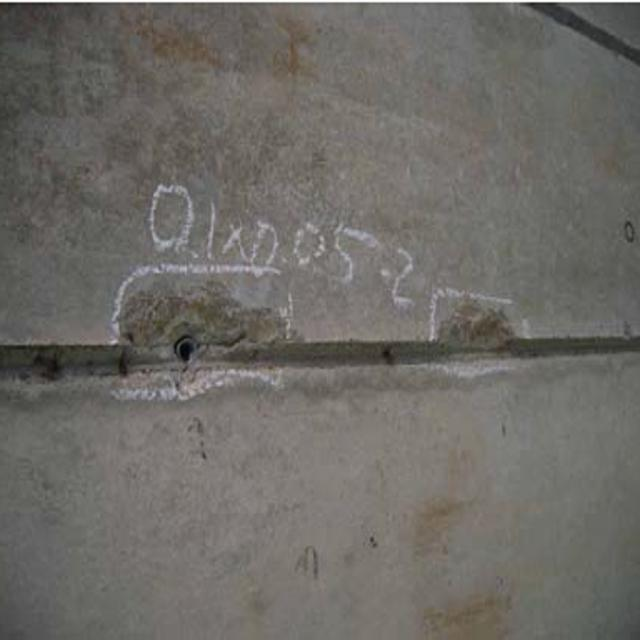spalling: (100, 267, 296, 404), (416, 283, 524, 370)
